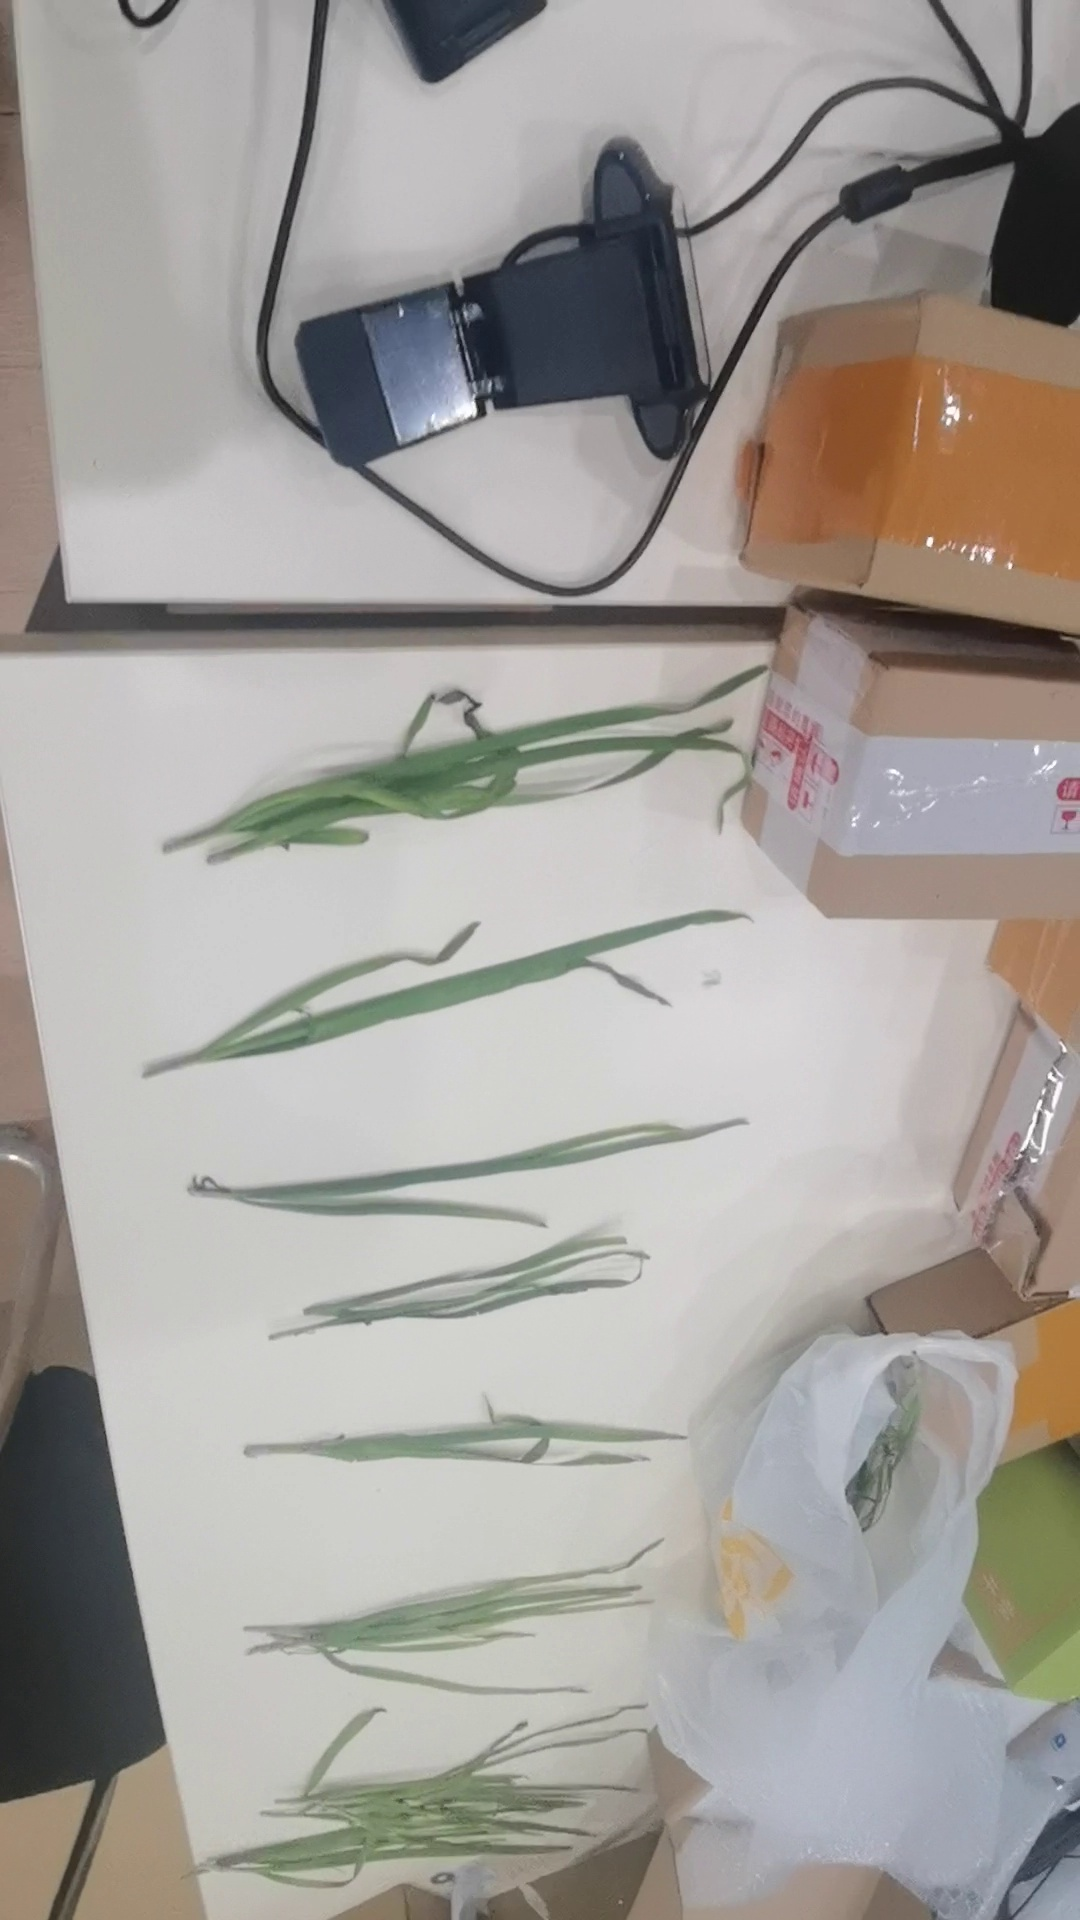chives: (92, 670, 861, 864), (112, 894, 837, 1088), (187, 1727, 716, 1920), (212, 1543, 781, 1677), (210, 1106, 765, 1232), (225, 1236, 825, 1338), (229, 1402, 764, 1505)
